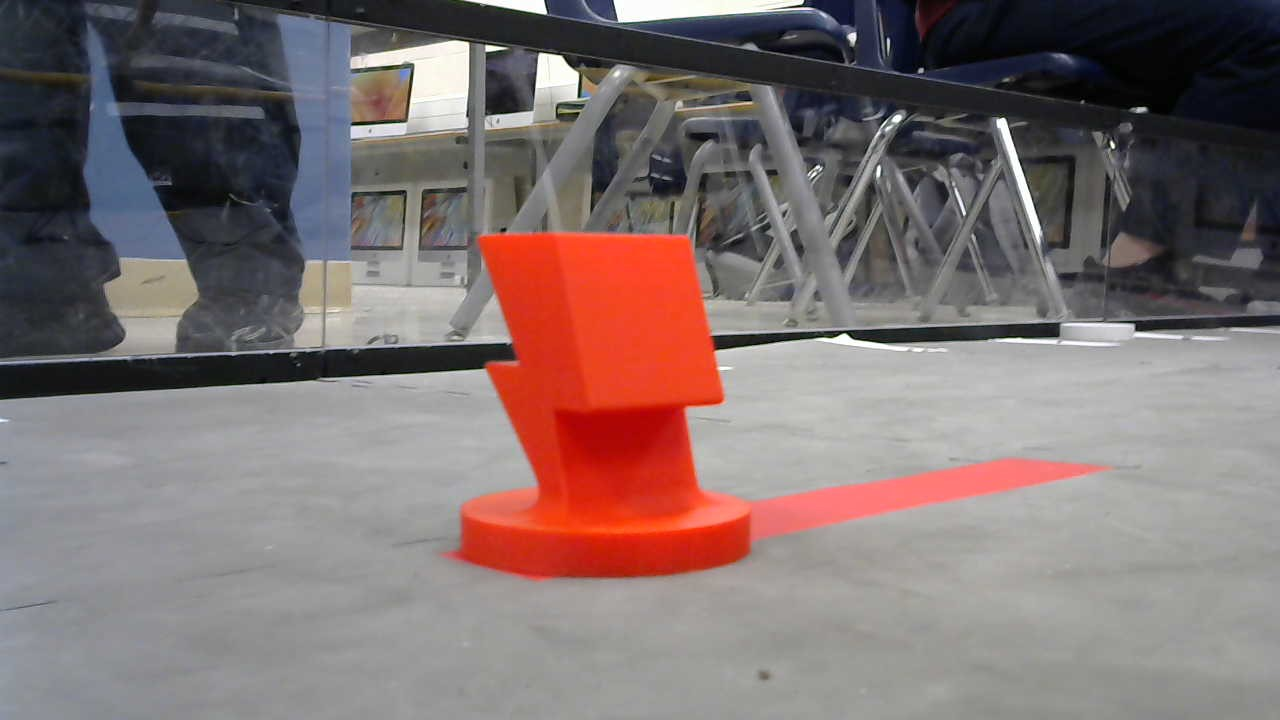redobject: (449, 230, 753, 581)
